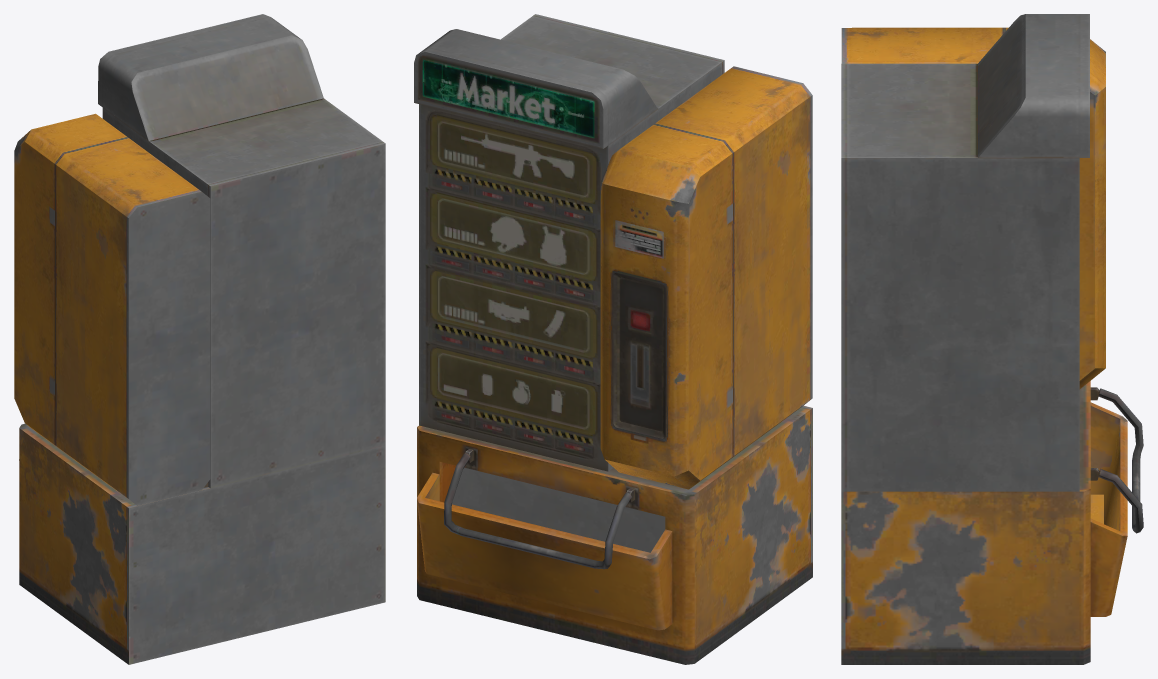
The model's file is machine.glb.
3 views of the same model, side by side, from view 1: azimuth 30°, elevation 25°; view 2: azimuth 150°, elevation 25°; view 3: azimuth 270°, elevation 25° (orthographic). The views are drawn at different scales.
Parts seen in each view (by area): view 1: SHOP MACHINE_0; view 2: SHOP MACHINE_0; view 3: SHOP MACHINE_0.
Part boxes in pixels (left/top/right/bottom): SHOP MACHINE_0: left=14, top=14, right=385, bottom=664; SHOP MACHINE_0: left=414, top=14, right=812, bottom=664; SHOP MACHINE_0: left=841, top=14, right=1143, bottom=664.
Size of the model in its own units: 1.35 by 2.56 by 1.25.
1 material, 1 textured.
